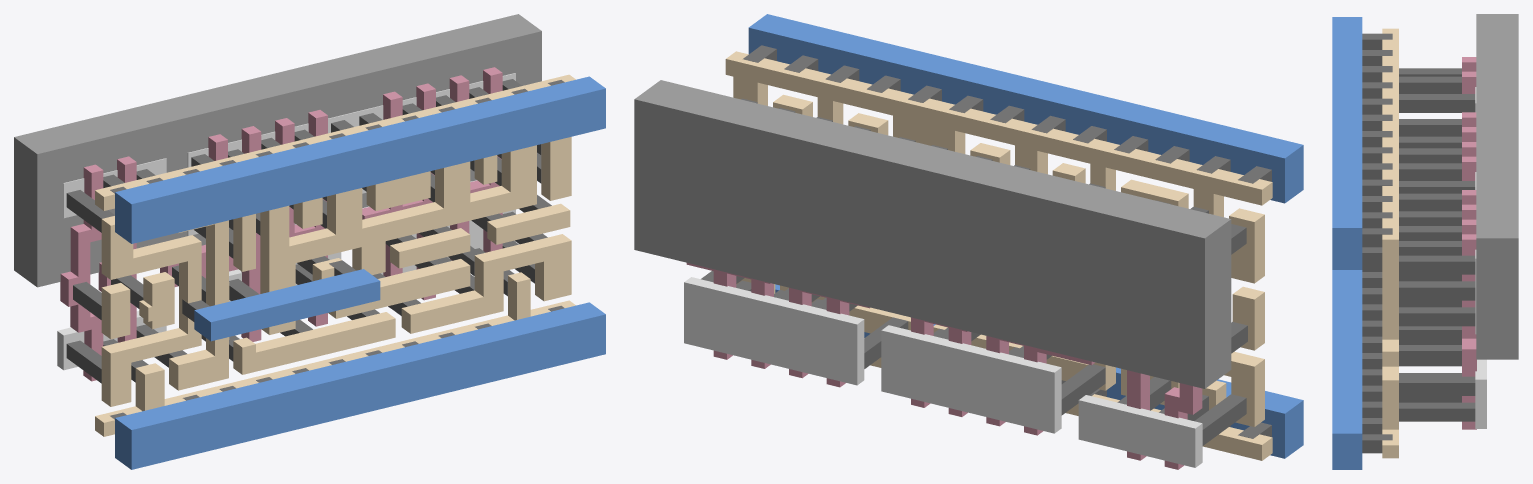
Rendered from sky130_fd_sc_hd__nand4bb_2.gds.gltf.
3 views of the same model, side by side, from view 1: azimuth 30°, elevation 25°; view 2: azimuth 150°, elevation 25°; view 3: azimuth 270°, elevation 25° (orthographic). The views are drawn at different scales.
Visible parts, largest first — view 1: sky130_fd_sc_hd__nand4bb_2_li1, sky130_fd_sc_hd__nand4bb_2_met1, sky130_fd_sc_hd__nand4bb_2_nwell, sky130_fd_sc_hd__nand4bb_2_poly, sky130_fd_sc_hd__nand4bb_2_licon, sky130_fd_sc_hd__nand4bb_2_diff, sky130_fd_sc_hd__nand4bb_2_mcon; view 2: sky130_fd_sc_hd__nand4bb_2_nwell, sky130_fd_sc_hd__nand4bb_2_li1, sky130_fd_sc_hd__nand4bb_2_diff, sky130_fd_sc_hd__nand4bb_2_met1, sky130_fd_sc_hd__nand4bb_2_licon, sky130_fd_sc_hd__nand4bb_2_poly, sky130_fd_sc_hd__nand4bb_2_mcon; view 3: sky130_fd_sc_hd__nand4bb_2_licon, sky130_fd_sc_hd__nand4bb_2_nwell, sky130_fd_sc_hd__nand4bb_2_met1, sky130_fd_sc_hd__nand4bb_2_mcon, sky130_fd_sc_hd__nand4bb_2_li1, sky130_fd_sc_hd__nand4bb_2_poly, sky130_fd_sc_hd__nand4bb_2_diff.
Boxes of the visible parts, x1,y1,x2,y2 form: sky130_fd_sc_hd__nand4bb_2_li1: (95, 74, 575, 436); sky130_fd_sc_hd__nand4bb_2_met1: (115, 76, 605, 469); sky130_fd_sc_hd__nand4bb_2_nwell: (14, 14, 541, 287); sky130_fd_sc_hd__nand4bb_2_poly: (60, 67, 502, 381); sky130_fd_sc_hd__nand4bb_2_licon: (66, 79, 551, 383); sky130_fd_sc_hd__nand4bb_2_diff: (57, 73, 515, 370); sky130_fd_sc_hd__nand4bb_2_mcon: (110, 80, 564, 419); sky130_fd_sc_hd__nand4bb_2_nwell: (634, 80, 1231, 388); sky130_fd_sc_hd__nand4bb_2_li1: (725, 51, 1272, 460); sky130_fd_sc_hd__nand4bb_2_diff: (684, 277, 1202, 467); sky130_fd_sc_hd__nand4bb_2_met1: (748, 14, 1303, 458); sky130_fd_sc_hd__nand4bb_2_licon: (701, 98, 1247, 445); sky130_fd_sc_hd__nand4bb_2_poly: (686, 263, 1202, 469); sky130_fd_sc_hd__nand4bb_2_mcon: (743, 45, 1271, 438); sky130_fd_sc_hd__nand4bb_2_licon: (1399, 68, 1475, 421); sky130_fd_sc_hd__nand4bb_2_nwell: (1476, 14, 1518, 359); sky130_fd_sc_hd__nand4bb_2_met1: (1332, 17, 1362, 469); sky130_fd_sc_hd__nand4bb_2_mcon: (1362, 33, 1392, 453); sky130_fd_sc_hd__nand4bb_2_li1: (1382, 28, 1398, 458); sky130_fd_sc_hd__nand4bb_2_poly: (1462, 57, 1476, 429); sky130_fd_sc_hd__nand4bb_2_diff: (1475, 87, 1486, 428).
Bounding box in the file's own units: 6.36 × 3.2 × 2.24.
